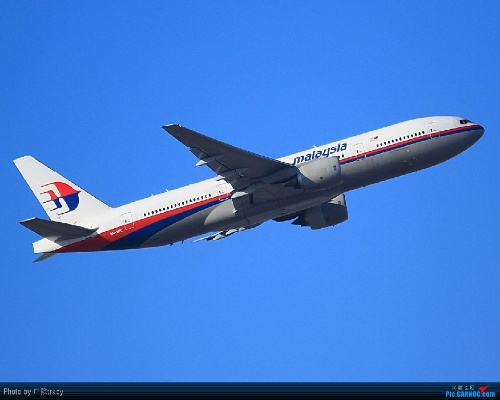plane: (13, 109, 488, 273)
